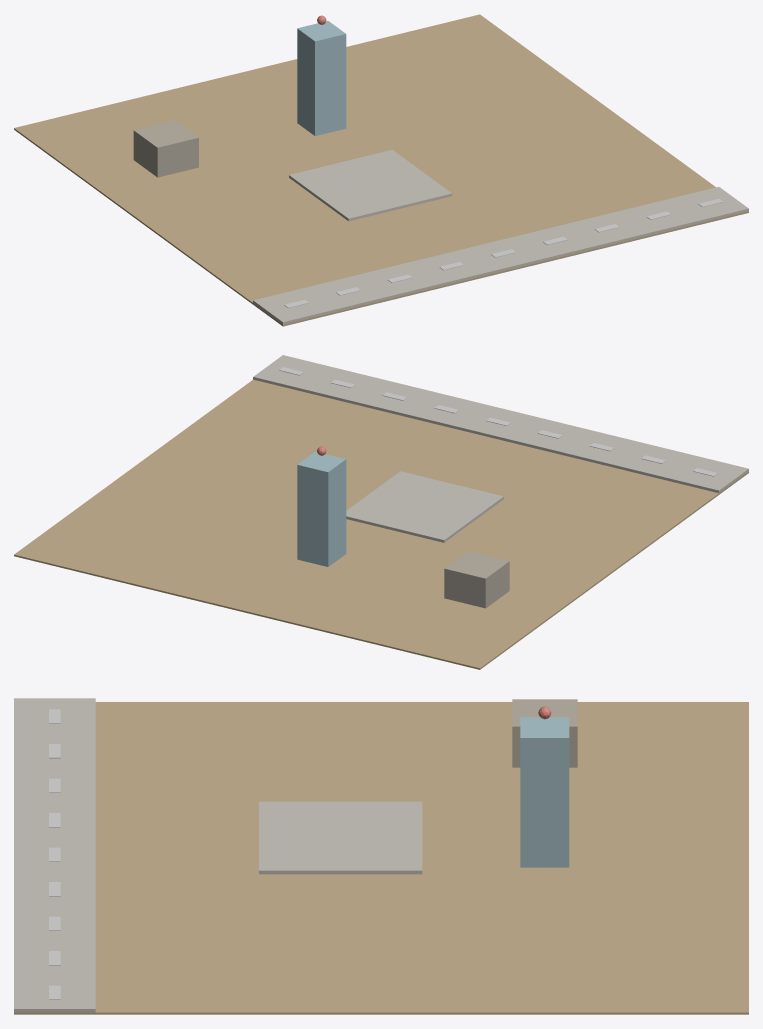
File: stage_03.glb
3 renders of one model, top to bottom at view 1: azimuth 30°, elevation 25°; view 2: azimuth 150°, elevation 25°; view 3: azimuth 270°, elevation 25°, orthographic. The views are drawn at different scales.
Visible parts, largest first — view 1: geometry_0; view 2: geometry_0; view 3: geometry_0.
Part boxes in pixels (<box>): geometry_0: <box>14,14,748,326</box>; geometry_0: <box>14,355,748,669</box>; geometry_0: <box>14,698,748,1014</box>.
Bounding box in the file's own units: 9 × 2.06 × 9.
